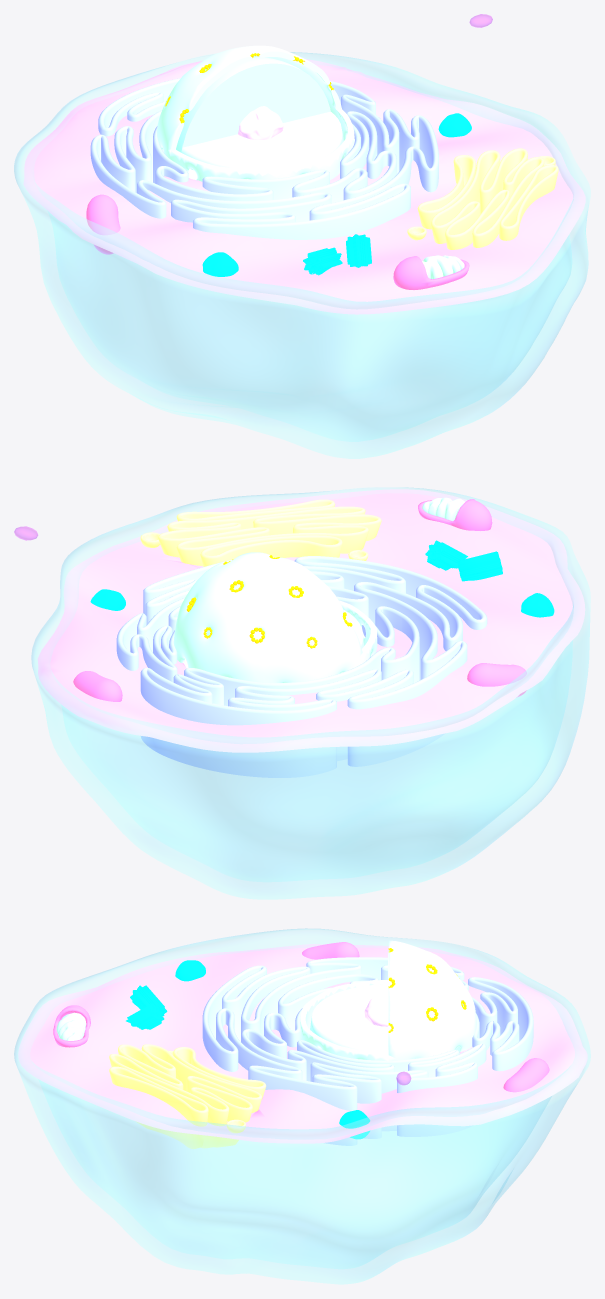
Rendered from heart-cellular-responding-3.glb.
3 renders of one model, top to bottom at view 1: azimuth 30°, elevation 25°; view 2: azimuth 150°, elevation 25°; view 3: azimuth 270°, elevation 25°, orthographic. The views are drawn at different scales.
Visible parts, largest first — view 1: Sphere_0, Sphere.001_0, BezierCurve_0, Roundcube_0, BezierCurve.002_0, Icosphere_0, Roundcube.000_0, Sphere.002_0, Roundcube.001_0, Sphere.005_0; view 2: Sphere_0, Sphere.001_0, BezierCurve_0, Icosphere_0, BezierCurve.002_0, Sphere.002_0, Roundcube.000_0, Icosphere.002_0, Sphere.005_0; view 3: Sphere_0, Sphere.001_0, BezierCurve_0, Icosphere_0, BezierCurve.002_0, Roundcube_0, Sphere.002_0, Roundcube.000_0, Sphere.005_0, Roundcube.001_0.
Boxes of the visible parts, x1,y1,x2,y2 form: Sphere_0: [14, 52, 590, 458]; Sphere.001_0: [23, 59, 585, 314]; BezierCurve_0: [90, 78, 438, 239]; Roundcube_0: [176, 57, 343, 179]; BezierCurve.002_0: [407, 148, 558, 249]; Icosphere_0: [157, 45, 354, 181]; Roundcube.000_0: [202, 113, 471, 276]; Sphere.002_0: [86, 194, 469, 289]; Roundcube.001_0: [238, 106, 283, 139]; Sphere.005_0: [422, 255, 464, 279]; Sphere_0: [31, 487, 590, 899]; Sphere.001_0: [37, 489, 585, 752]; BezierCurve_0: [116, 556, 487, 777]; Icosphere_0: [173, 552, 377, 682]; BezierCurve.002_0: [140, 499, 381, 566]; Sphere.002_0: [73, 499, 526, 701]; Roundcube.000_0: [90, 540, 554, 617]; Icosphere.002_0: [186, 555, 352, 648]; Sphere.005_0: [422, 497, 464, 521]; Sphere_0: [14, 928, 590, 1284]; Sphere.001_0: [18, 944, 587, 1143]; BezierCurve_0: [202, 957, 533, 1145]; Icosphere_0: [300, 940, 476, 1061]; BezierCurve.002_0: [109, 1044, 266, 1149]; Roundcube_0: [310, 952, 463, 1052]; Sphere.002_0: [53, 942, 549, 1092]; Roundcube.000_0: [126, 960, 369, 1139]; Sphere.005_0: [56, 1012, 86, 1040]; Roundcube.001_0: [364, 997, 387, 1026].
Size of the model in its own units: 2.54 by 1.7 by 3.
